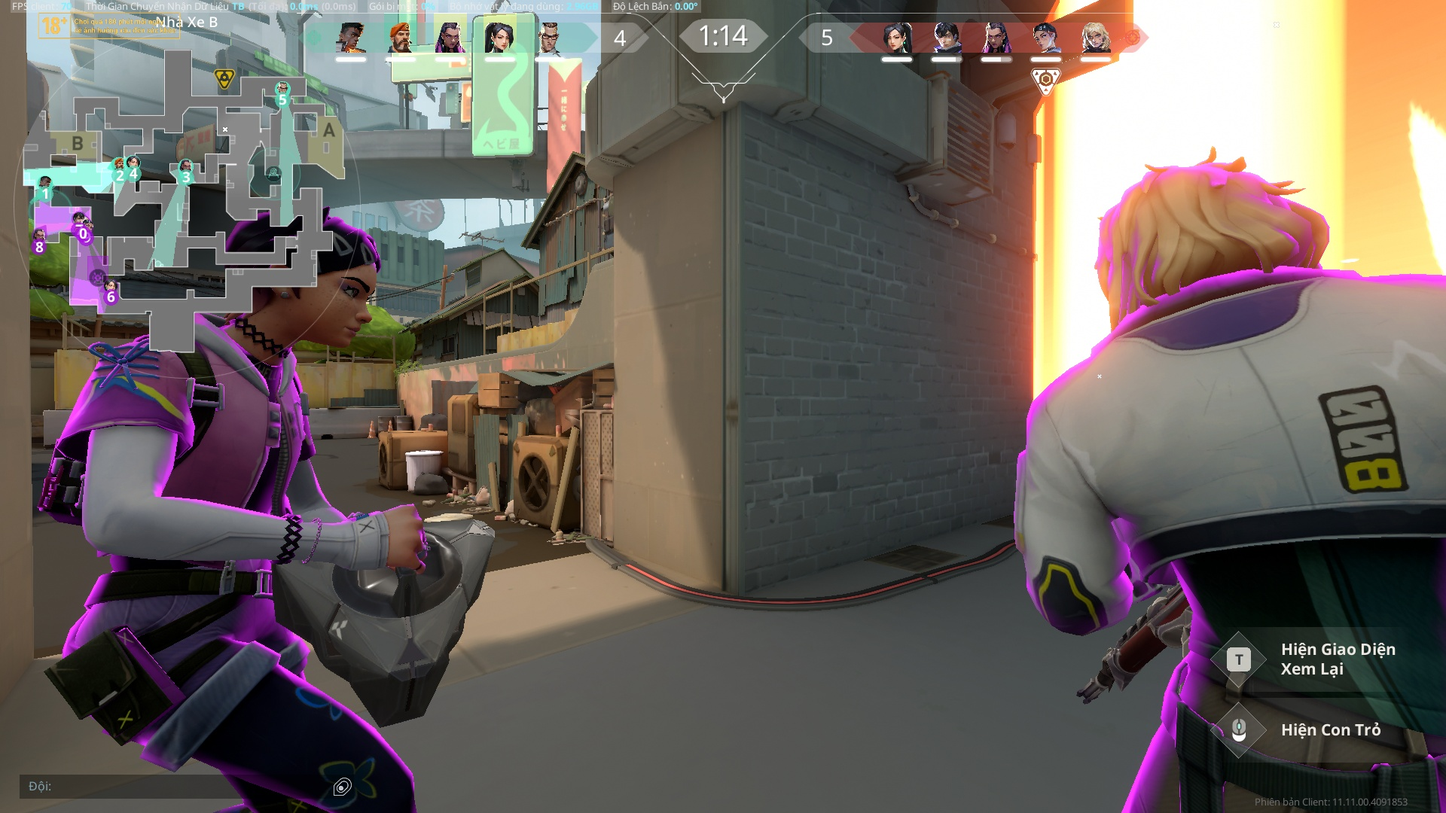body: (1054, 310, 1438, 647), (88, 333, 310, 604)
head: (1091, 167, 1297, 293), (227, 199, 369, 343)
